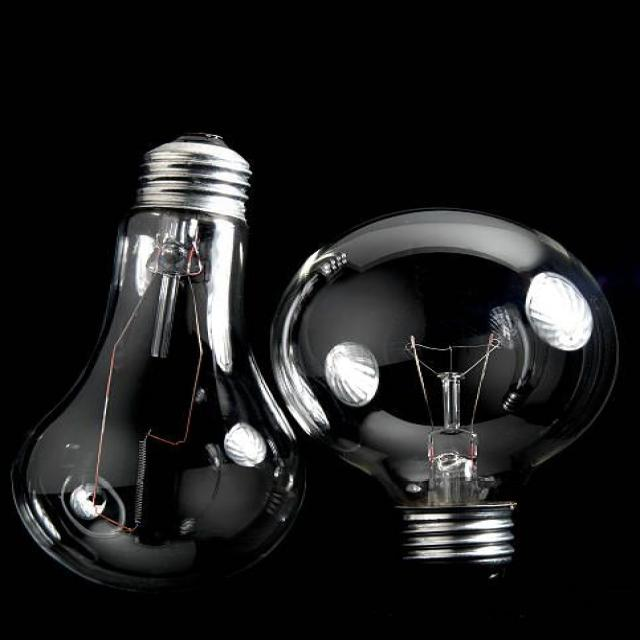electronic: (8, 131, 307, 593), (267, 205, 618, 576), (522, 270, 594, 352), (322, 341, 379, 408), (222, 422, 266, 468), (68, 482, 108, 520)
